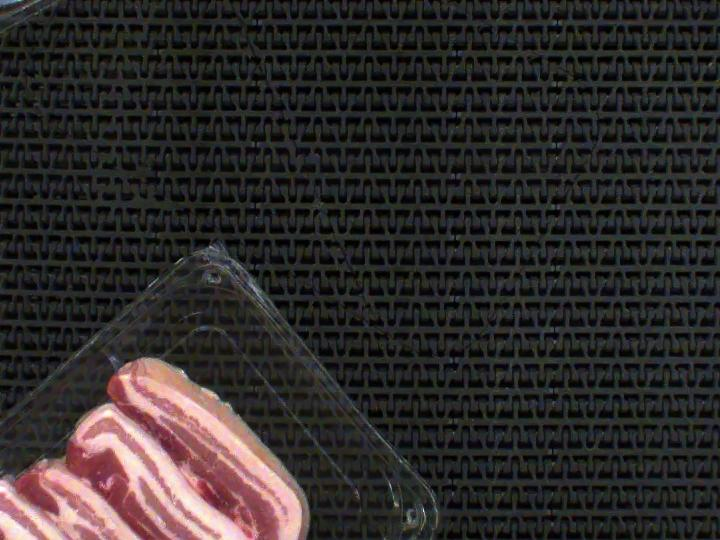packaging-error: (96, 347, 129, 372)
